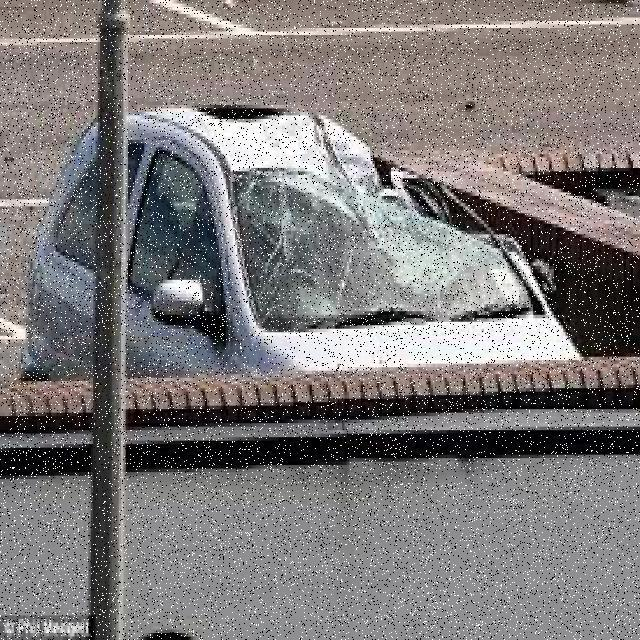Front-Windscreen-Damage: (195, 174, 570, 353)
roof-dent: (135, 84, 370, 203)
